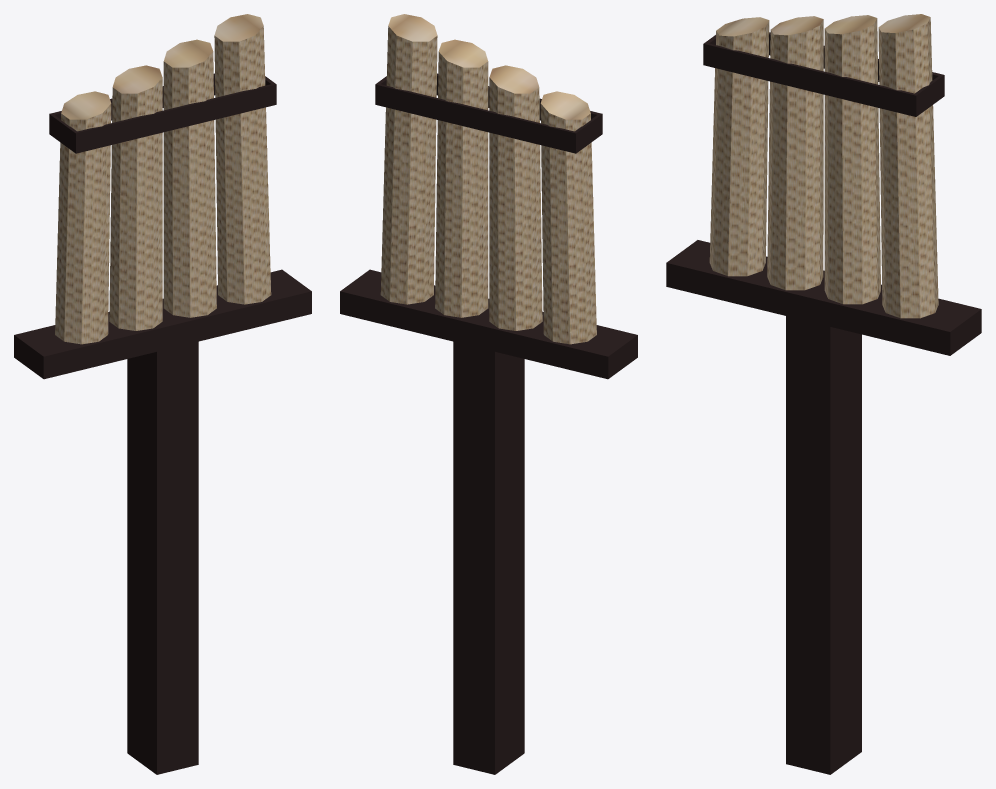
Rendered from sam1.glb.
3 views of the same model, side by side, from view 1: azimuth 30°, elevation 25°; view 2: azimuth 150°, elevation 25°; view 3: azimuth 330°, elevation 25° (orthographic). The views are drawn at different scales.
Parts seen in each view (by area): view 1: SM_3, SAMUR_TR; view 2: SM_3, SAMUR_TR; view 3: SM_3, SAMUR_TR.
Part boxes in pixels (bbox=[...]): SM_3: bbox=[55, 14, 271, 344]; SAMUR_TR: bbox=[14, 73, 311, 774]; SM_3: bbox=[380, 14, 596, 344]; SAMUR_TR: bbox=[340, 73, 637, 774]; SM_3: bbox=[709, 14, 938, 318]; SAMUR_TR: bbox=[666, 32, 981, 774].
Bounding box in the file's own units: 0.4786 × 1.22 × 0.0919.
Materials: 2 (2 with a texture image).
